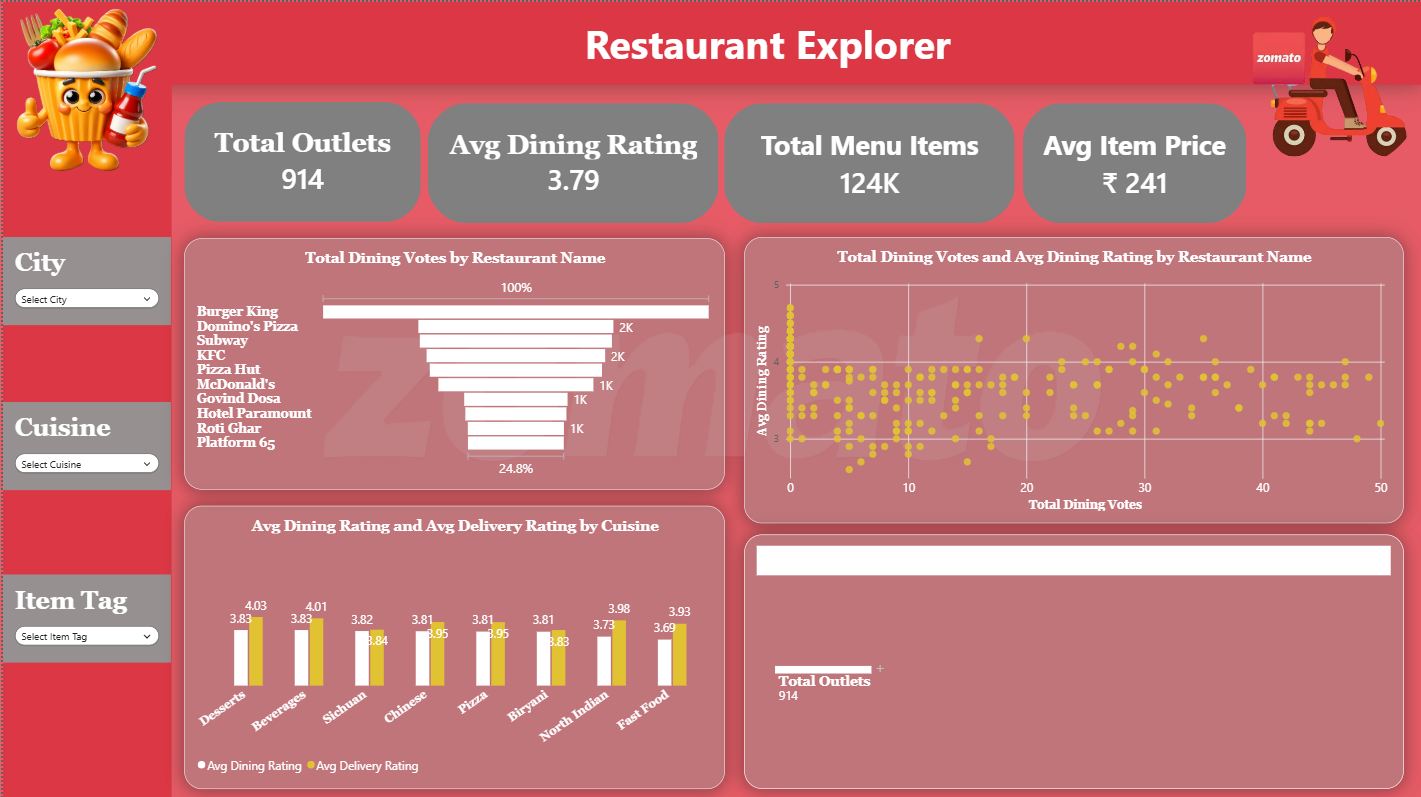

The dashboard page shown, as its layout file describes it:
{"tool":"powerbi","page":{"name":"Restaurant Explorer","canvas":[1920,1080],"ordinal":2},"visuals":[{"type":"textbox","box":[0,0,1920.1,112],"z":0},{"type":"image","box":[1649.1,0,270.5,222.9],"z":1000},{"type":"textbox","box":[0,0,227.6,1080.4],"z":2000},{"type":"image","box":[0,0,227.6,240.7],"z":3000},{"type":"cardVisual","fields":{"Data":["Menu_Items.Total Outlets"]},"box":[245,135,320.3,162.3],"z":4000},{"type":"cardVisual","fields":{"Data":["Menu_Items.Avg Dining Rating"]},"box":[575,136.3,393.9,162.3],"z":5000},{"type":"cardVisual","fields":{"Data":["Menu_Items.Total Menu Items"]},"box":[975,136.3,393.9,162.3],"z":6000},{"type":"cardVisual","fields":{"Data":["Menu_Items.Avg Item Price"]},"box":[1380,136.3,303,162.3],"z":7000},{"type":"listSlicer","fields":{"Values":["dim_City.City"]},"box":[0,318.1,227.2,119],"z":8000},{"type":"listSlicer","fields":{"Values":["dim_Restaurant.Cuisine"]},"box":[0,541,227.2,119],"z":9000},{"type":"listSlicer","fields":{"Values":["Menu_Items.Item Tag"]},"box":[0,774.8,227.2,119],"z":10000},{"type":"funnel","fields":{"Category":["dim_Restaurant.Restaurant Name"],"Y":["Menu_Items.Total Dining Votes"]},"box":[244.5,320.3,731.5,339.8],"z":11000},{"type":"scatterChart","fields":{"Category":["dim_Restaurant.Restaurant Name"],"X":["Menu_Items.Total Dining Votes"],"Y":["Menu_Items.Avg Dining Rating"]},"box":[1002,318.1,891.6,387.4],"z":12000},{"type":"clusteredColumnChart","fields":{"Category":["dim_Restaurant.Cuisine"],"Y":["Menu_Items.Avg Dining Rating","Menu_Items.Avg Delivery Rating"]},"box":[244.5,681.7,731.5,383.1],"z":13000},{"type":"decompositionTreeVisual","fields":{"Analyze":["Menu_Items.Total Outlets"],"ExplainBy":["dim_Restaurant.Restaurant Name","dim_Restaurant.Cuisine","dim_Restaurant.City"]},"box":[1002,720.7,891.6,344.1],"z":14000}]}

Visuals, with their boxes in screenshot pixels (x1, y1, x2, y2), scaled from the page's 1920x1080 canvas onto the 1421x797 screenshot:
textbox: [0, 0, 1420, 83]
image: [1221, 0, 1420, 164]
textbox: [0, 0, 168, 796]
image: [0, 0, 168, 178]
cardVisual - Menu_Items.Total Outlets: [181, 100, 418, 219]
cardVisual - Menu_Items.Avg Dining Rating: [426, 101, 717, 220]
cardVisual - Menu_Items.Total Menu Items: [722, 101, 1013, 220]
cardVisual - Menu_Items.Avg Item Price: [1021, 101, 1246, 220]
listSlicer - dim_City.City: [0, 235, 168, 323]
listSlicer - dim_Restaurant.Cuisine: [0, 399, 168, 487]
listSlicer - Menu_Items.Item Tag: [0, 572, 168, 660]
funnel - dim_Restaurant.Restaurant Name x Menu_Items.Total Dining Votes: [181, 236, 722, 487]
scatterChart - dim_Restaurant.Restaurant Name x Menu_Items.Total Dining Votes: [742, 235, 1401, 521]
clusteredColumnChart - dim_Restaurant.Cuisine x Menu_Items.Avg Dining Rating: [181, 503, 722, 786]
decompositionTreeVisual - Menu_Items.Total Outlets x dim_Restaurant.Restaurant Name: [742, 532, 1401, 786]
